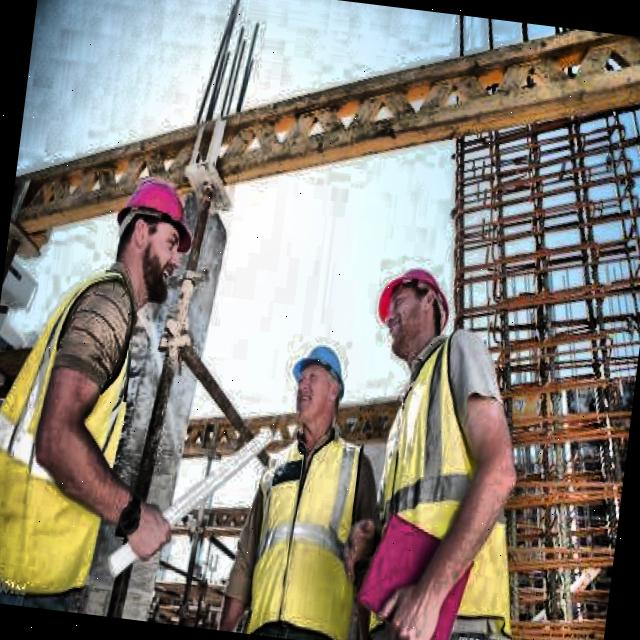helmet: (98, 164, 202, 304), (362, 246, 462, 370), (280, 322, 358, 448)
